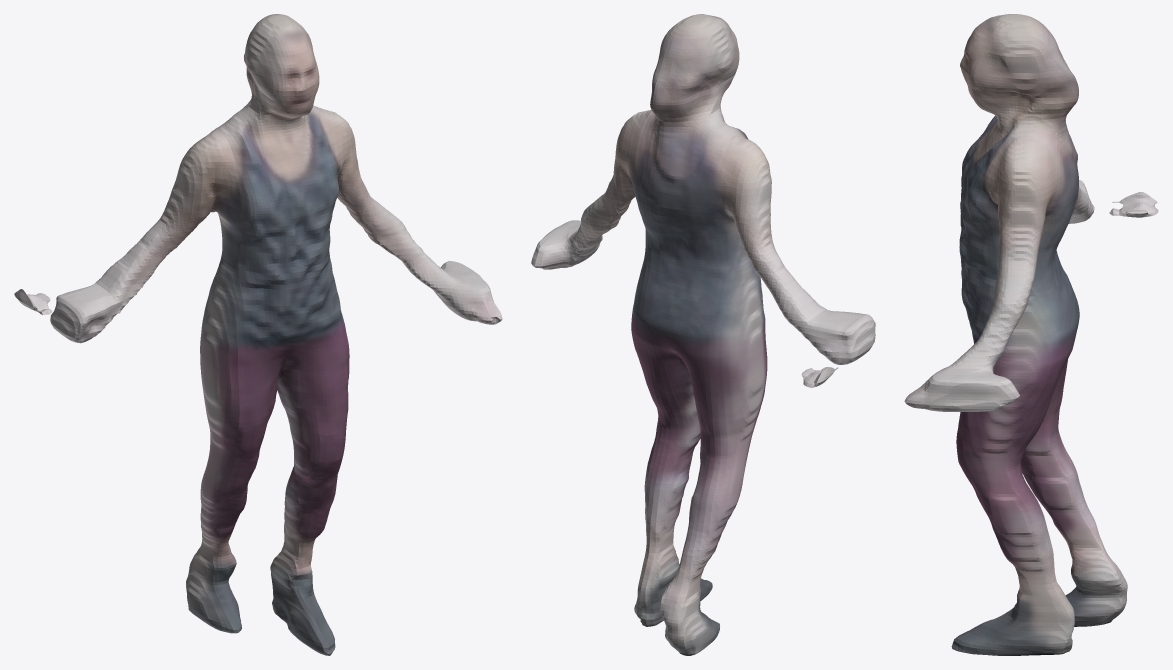
File: 0095_tex.glb
3 views of the same model, side by side, from view 1: azimuth 30°, elevation 25°; view 2: azimuth 150°, elevation 25°; view 3: azimuth 270°, elevation 25° (orthographic). The views are drawn at different scales.
Parts seen in each view (by area): view 1: 0095_tex.obj; view 2: 0095_tex.obj; view 3: 0095_tex.obj.
Part boxes in pixels (x1,y1,x2,y2): 0095_tex.obj: (14,14,502,655); 0095_tex.obj: (531,14,875,655); 0095_tex.obj: (904,14,1158,655).
Size of the model in its own units: 0.5678 by 0.8977 by 0.3319.
